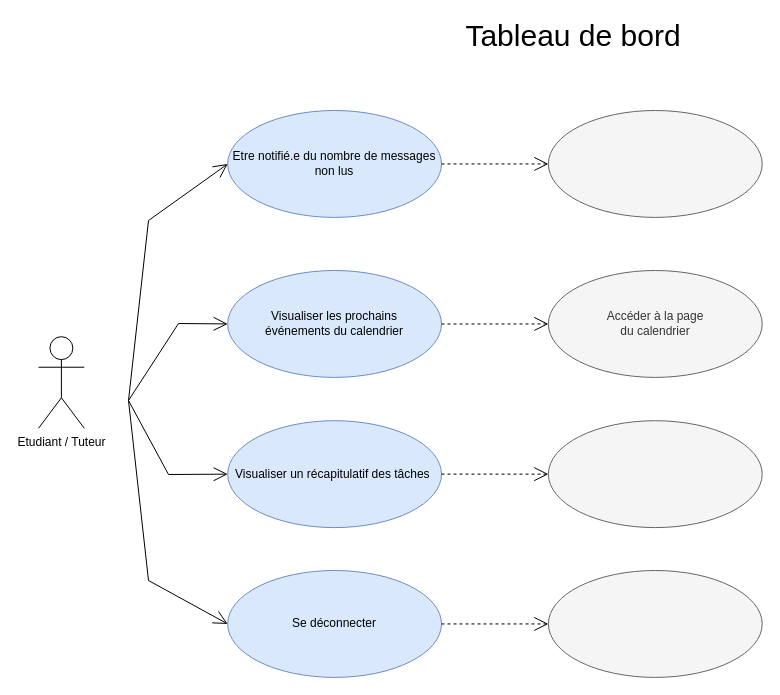
Image size: 780x695. Some labels were removed from this diagram. The centre of each missing label's shape, as x and y in pixels:
Accéder à la page de chat: (654,163)
Accéder à la page de connexion: (654,623)
Accéder à la page de gestion des tâches: (654,474)
